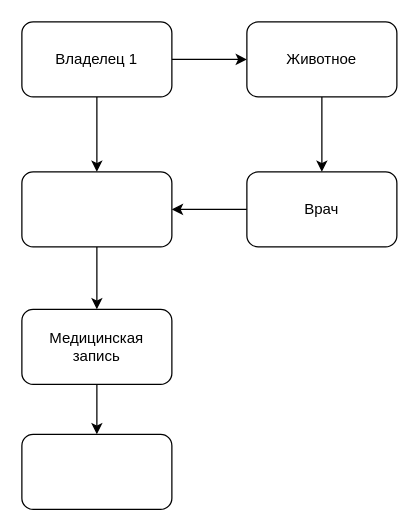
The diagram is 419 pixels wide and 531 high, and some of its shapes have lost their labels. The shapes that lost their labels are listed below. From the top down, each one's centre as x and y in pixels, then its label:
At point (96, 209): "Прием".
At point (96, 471): "Услуга".
